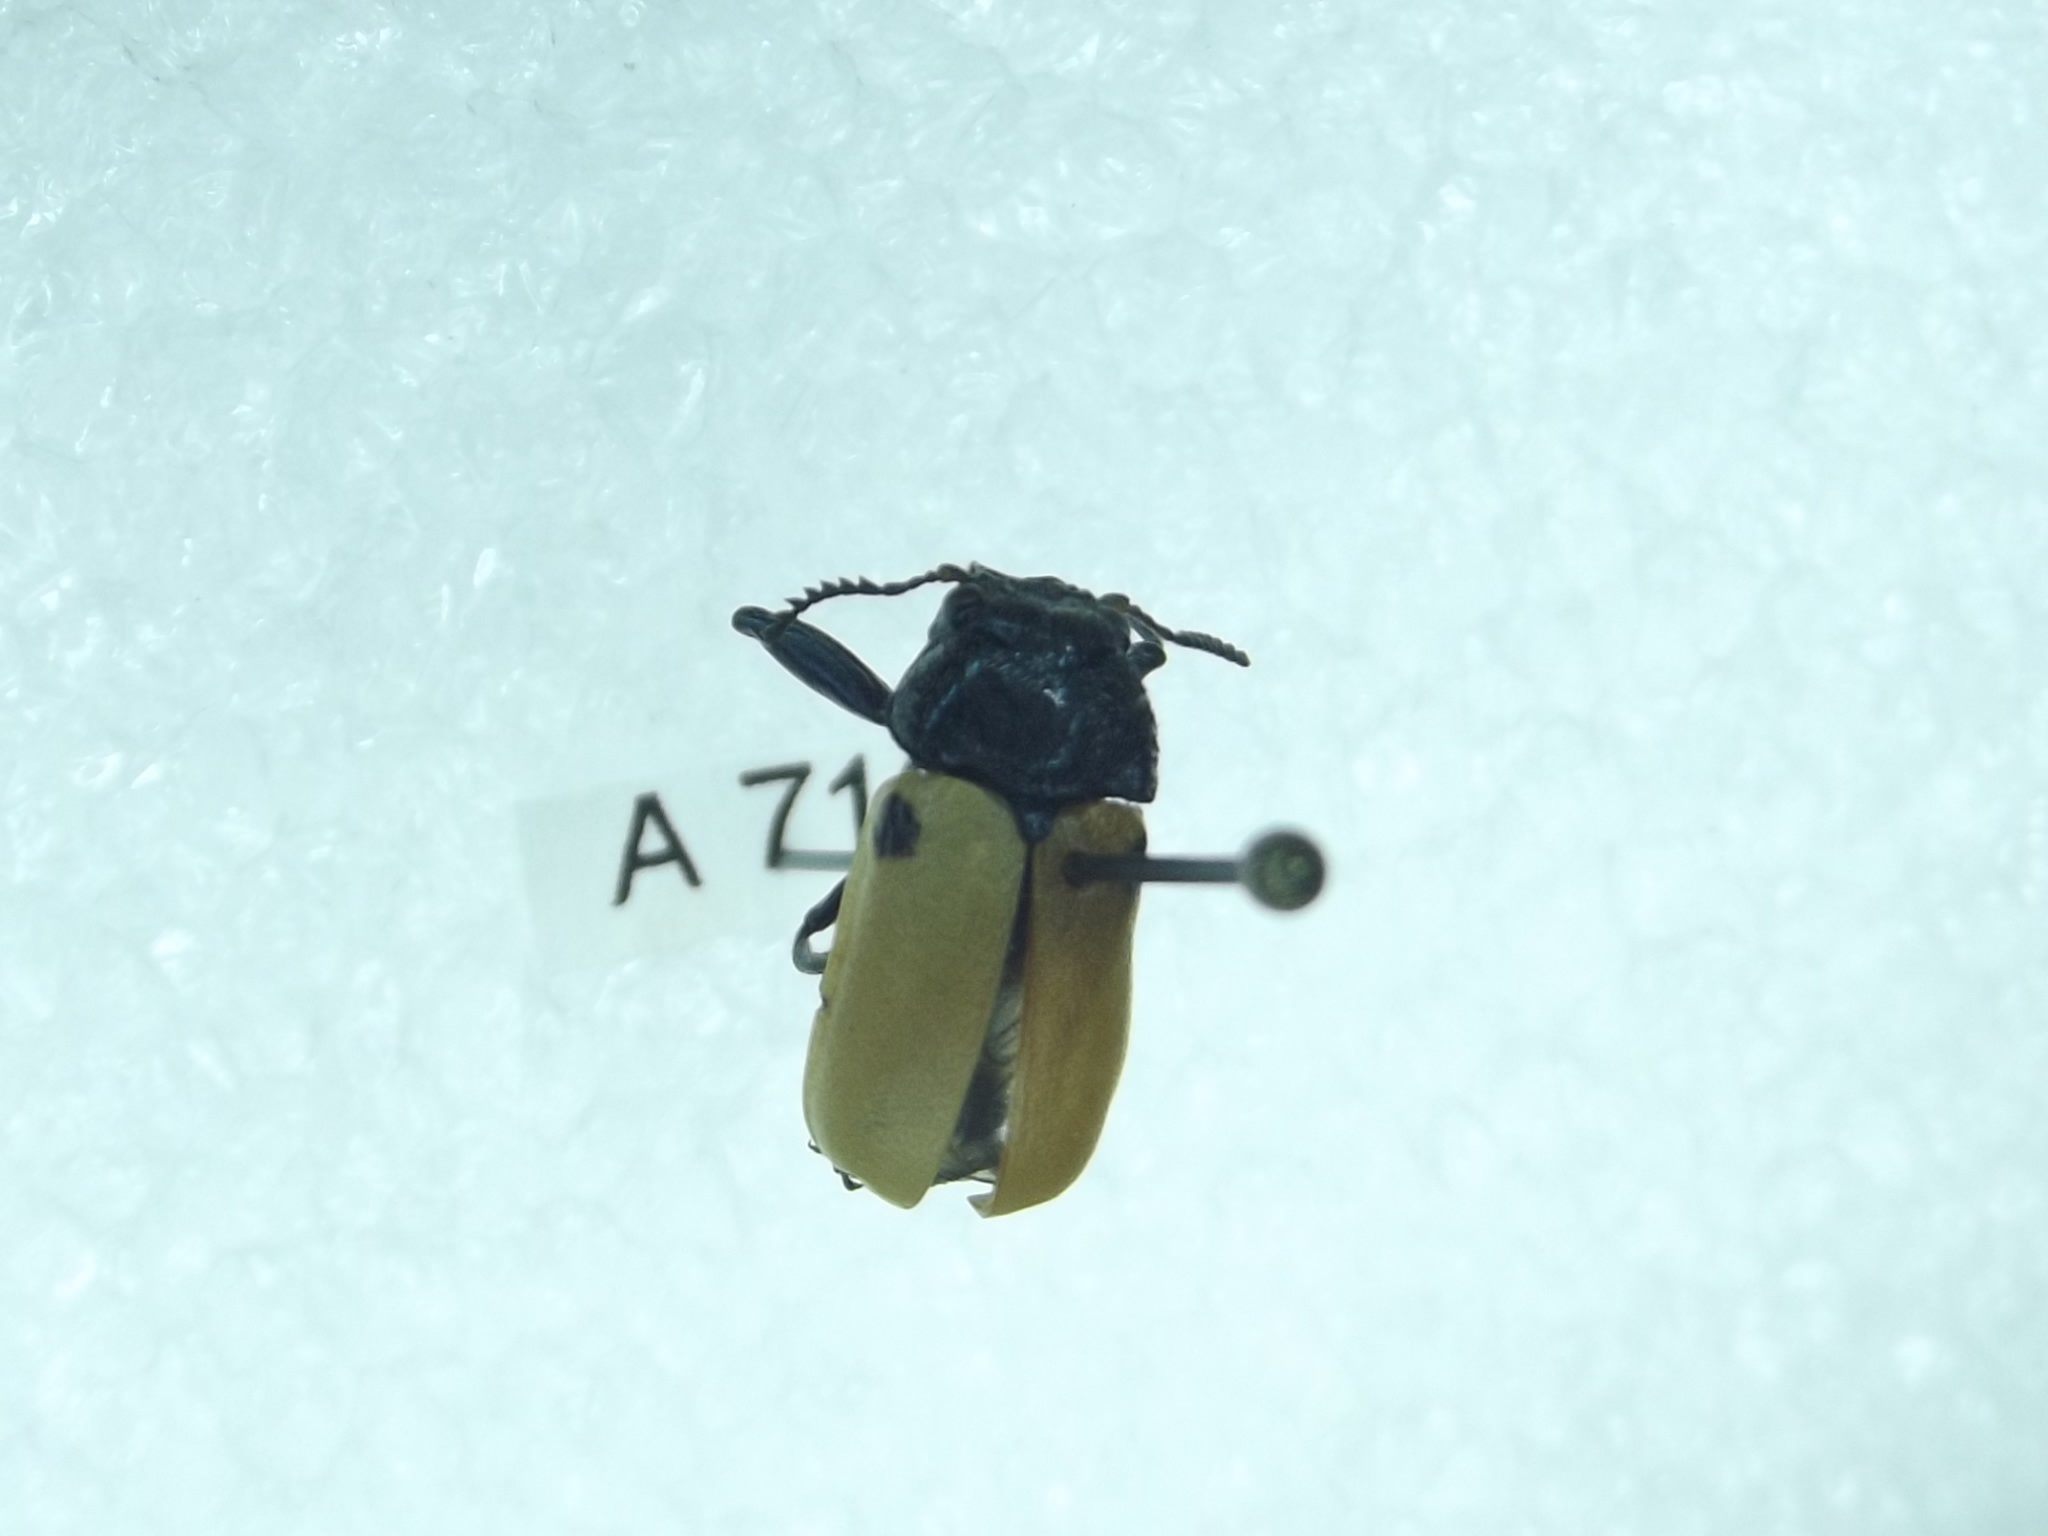Labidostomis_propinqua: (714, 541, 1248, 1233)
